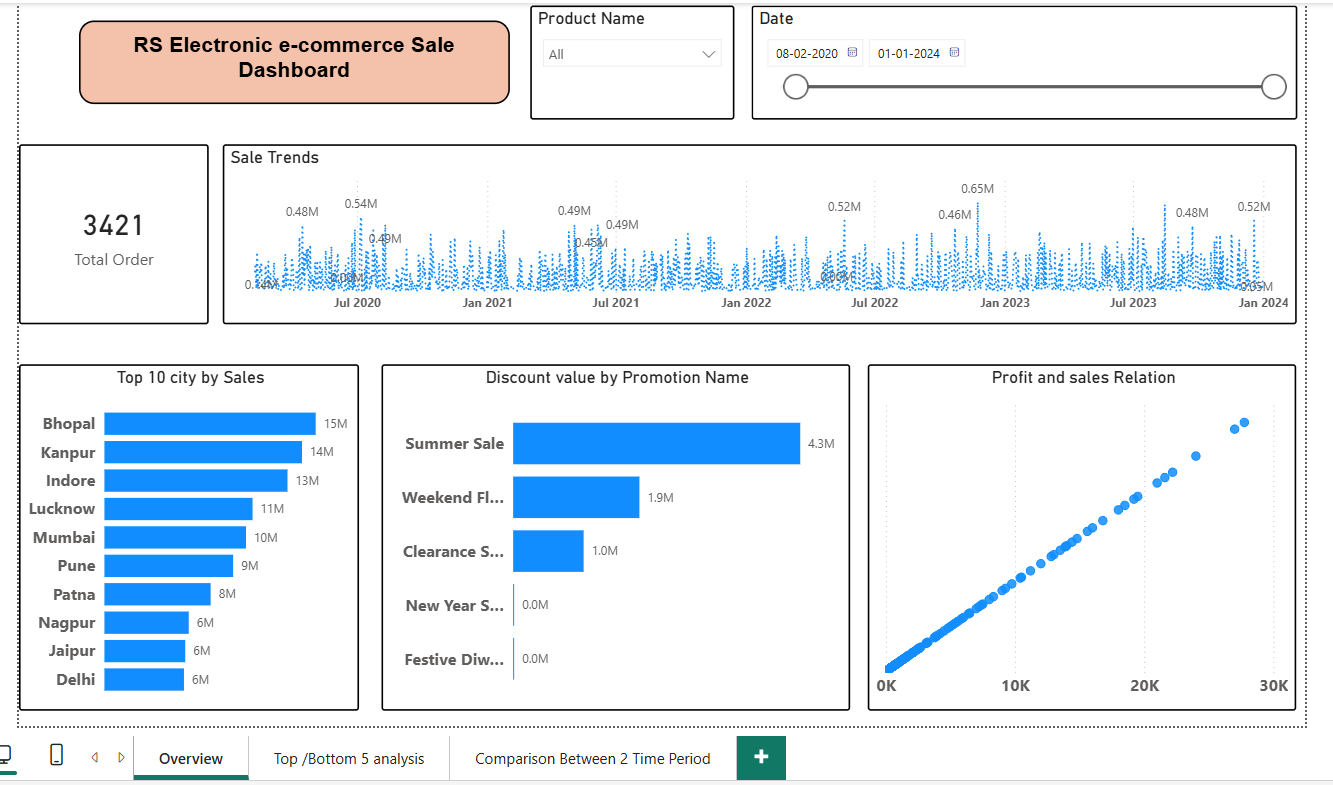

The page's visual inventory and layout, read from the dashboard file:
{"tool":"powerbi","page":{"name":"Overview","canvas":[1280,720],"ordinal":0},"visuals":[{"type":"lineChart","title":"Sale Trends ","fields":{"Category":["Fact Table.Date (dd/mm/yyyy).Variation.Date Hierarchy.Year"],"Y":["Sum(Fact Table.Total Sale)"]},"box":[202.8,140.6,1068.6,179.1],"z":0},{"type":"scatterChart","title":"Profit and sales Relation","fields":{"Y":["Fact Table.Net sales"],"X":["Fact Table.Profit"]},"box":[844.6,359.5,426.7,344.6],"z":1000},{"type":"barChart","title":" Discount value by Promotion Name","fields":{"Y":["Sum(Fact Table.Discount value)"],"Category":["Dim Promotion.Promotion Name"]},"box":[360.7,359.5,466.5,344.6],"z":2000},{"type":"card","fields":{"Values":["Count(Fact Table.Index)"]},"box":[0,140.6,189.1,179.1],"z":3000},{"type":"slicer","title":"Product Name","fields":{"Values":["Dim Product.Product Name"]},"box":[509,3,203,113.4],"z":4000},{"type":"textbox","box":[59.7,17.4,429.2,83.3],"z":5000},{"type":"slicer","title":"Date","fields":{"Values":["Fact Table.Date (dd/mm/yyyy)"]},"box":[728.4,3,543.3,113.4],"z":6000},{"type":"barChart","title":"Top 10 city by Sales","fields":{"Y":["Sum(Fact Table.Total Sale)"],"Category":["Dim Customers.City"]},"box":[0,359.5,338.4,344.6],"z":7000}]}

Visuals, with their boxes in screenshot pixels (x1, y1, x2, y2):
"Sale Trends " lineChart: crop(232, 143, 1291, 320)
"Profit and sales Relation" scatterChart: crop(868, 360, 1291, 701)
" Discount value by Promotion Name" barChart: crop(389, 360, 851, 701)
card - Count(Fact Table.Index): crop(31, 143, 219, 320)
"Product Name" slicer: crop(535, 6, 737, 119)
textbox: crop(90, 21, 516, 103)
"Date" slicer: crop(753, 6, 1291, 119)
"Top 10 city by Sales" barChart: crop(31, 360, 366, 701)
